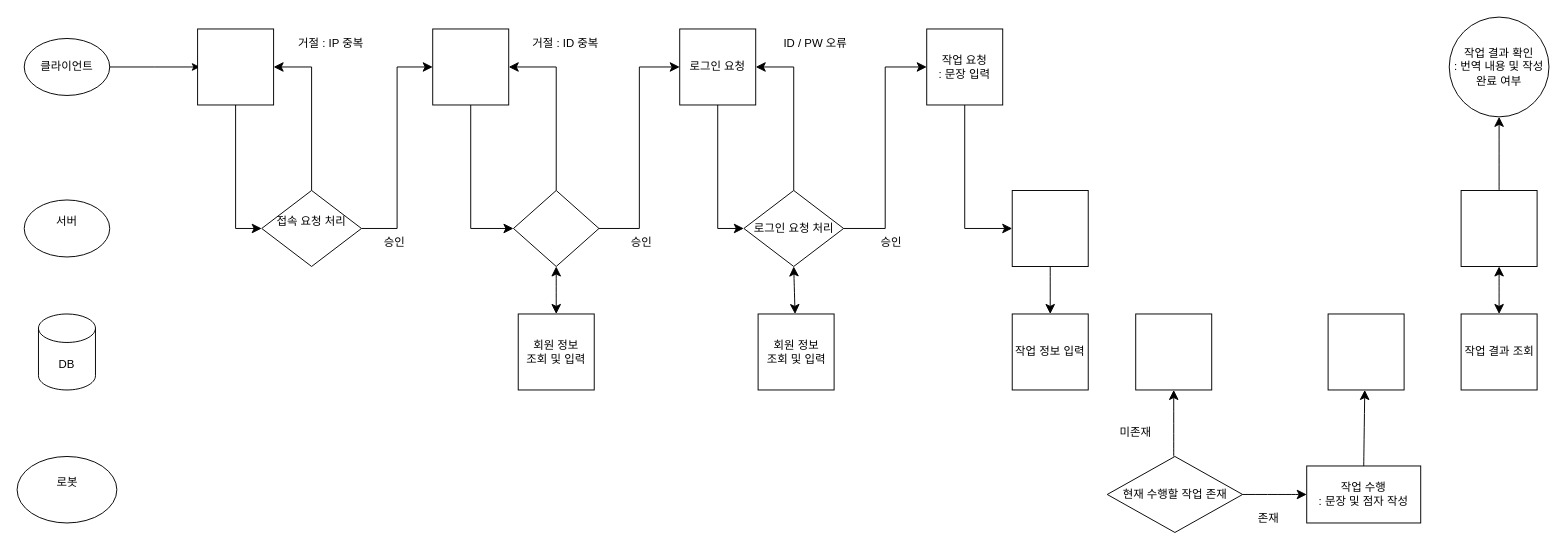
Some shapes in this 1566 by 549 pixel diagram are drawn without their labels. Each missing label, with the box of its shape:
서버 접속 요청: (197, 28, 274, 105)
작업 결과 업데이트: (1327, 313, 1404, 390)
작업 요청 수신: (1011, 190, 1088, 266)
작업 요청 후 일정 시간 대기: (1460, 190, 1537, 266)
작업 정보 조회: (1135, 313, 1212, 390)
회원가입 요청: (432, 28, 509, 105)
회원가입 요청 처리: (513, 190, 599, 266)
